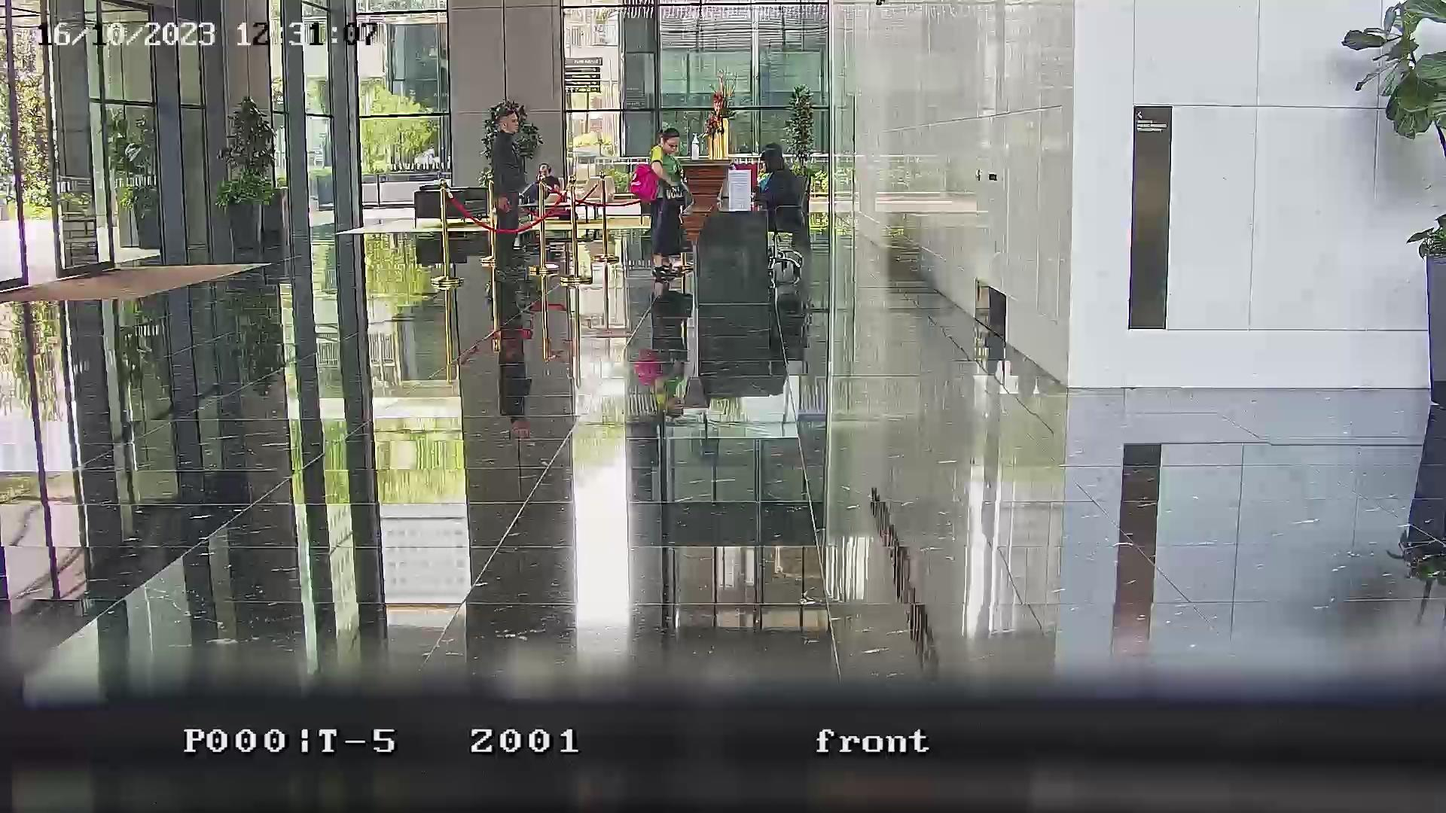person: (484, 99, 543, 265), (629, 127, 694, 276), (754, 141, 809, 243), (518, 163, 561, 212)
